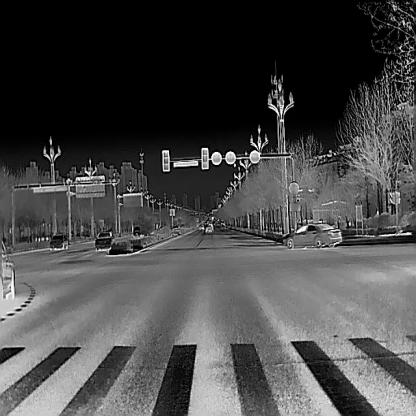car: (281, 221, 342, 249), (0, 236, 15, 300), (94, 230, 115, 251), (48, 232, 68, 250), (132, 226, 146, 236), (205, 225, 212, 232), (219, 223, 225, 228), (199, 224, 203, 230)
